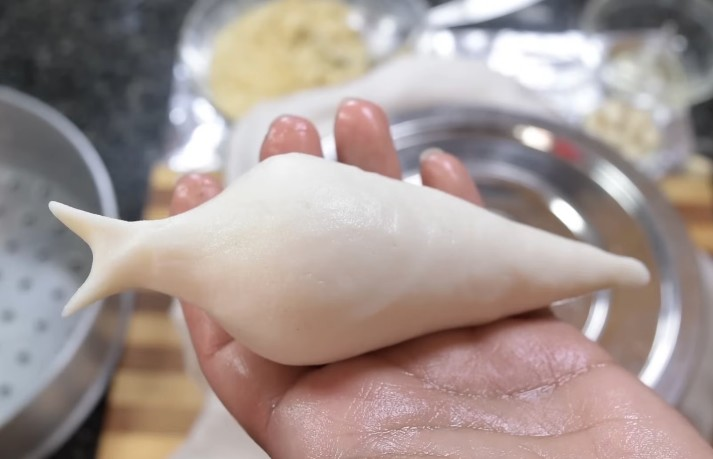yomari: (47, 154, 657, 378)
